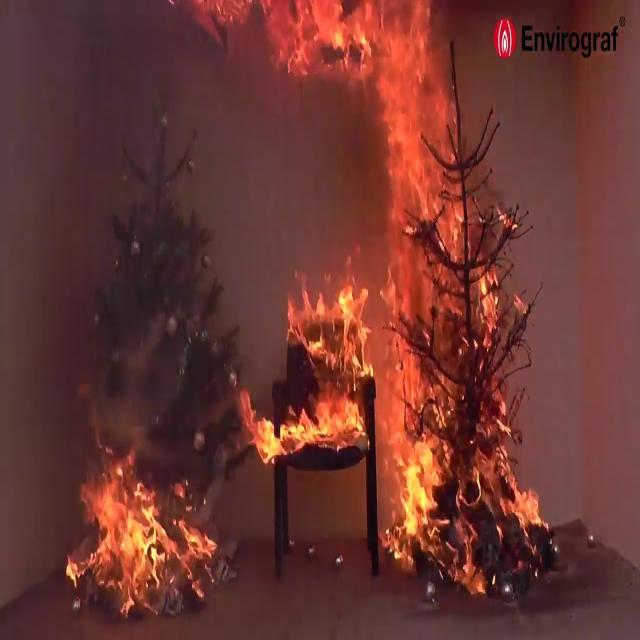Fire: (374, 141, 546, 604), (283, 0, 462, 176), (260, 278, 375, 468), (62, 452, 187, 602)
Smoke: (0, 11, 272, 411)
